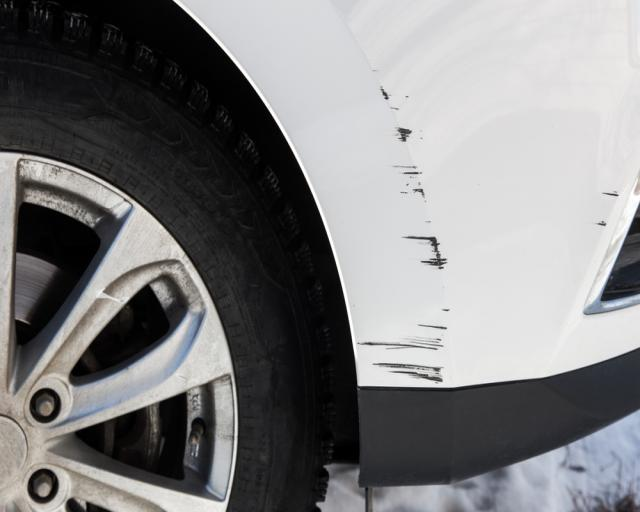scratch: (357, 67, 457, 390), (595, 187, 620, 229)
